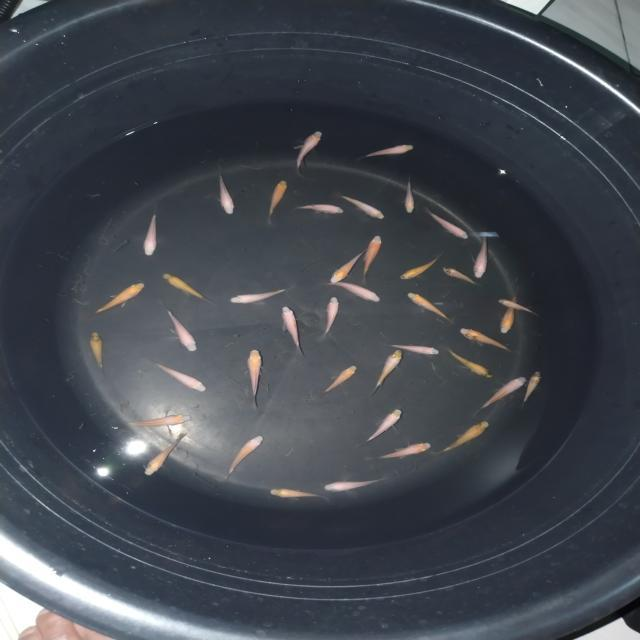nila: (138, 430, 192, 478), (220, 430, 268, 480), (473, 372, 529, 414), (152, 355, 208, 397), (90, 278, 148, 318), (443, 342, 496, 383), (454, 324, 520, 356), (360, 404, 408, 446), (438, 418, 491, 456), (287, 126, 327, 176), (120, 408, 202, 432), (313, 362, 363, 401), (163, 302, 200, 354), (368, 346, 408, 394), (324, 245, 374, 283), (317, 277, 384, 305), (373, 436, 435, 466), (274, 300, 306, 356), (160, 269, 209, 303), (424, 208, 472, 242), (242, 348, 268, 410), (341, 188, 388, 222), (139, 202, 167, 258), (396, 252, 448, 282), (514, 364, 546, 410), (317, 290, 344, 344), (359, 232, 386, 283), (213, 161, 237, 218), (226, 284, 294, 304), (407, 290, 452, 320), (264, 486, 330, 506), (470, 233, 498, 280), (321, 474, 384, 494), (292, 198, 349, 220), (265, 175, 291, 222), (85, 324, 109, 374), (358, 142, 420, 161), (496, 290, 520, 338), (388, 340, 448, 359), (495, 294, 541, 316), (441, 264, 478, 288), (403, 176, 418, 218)
